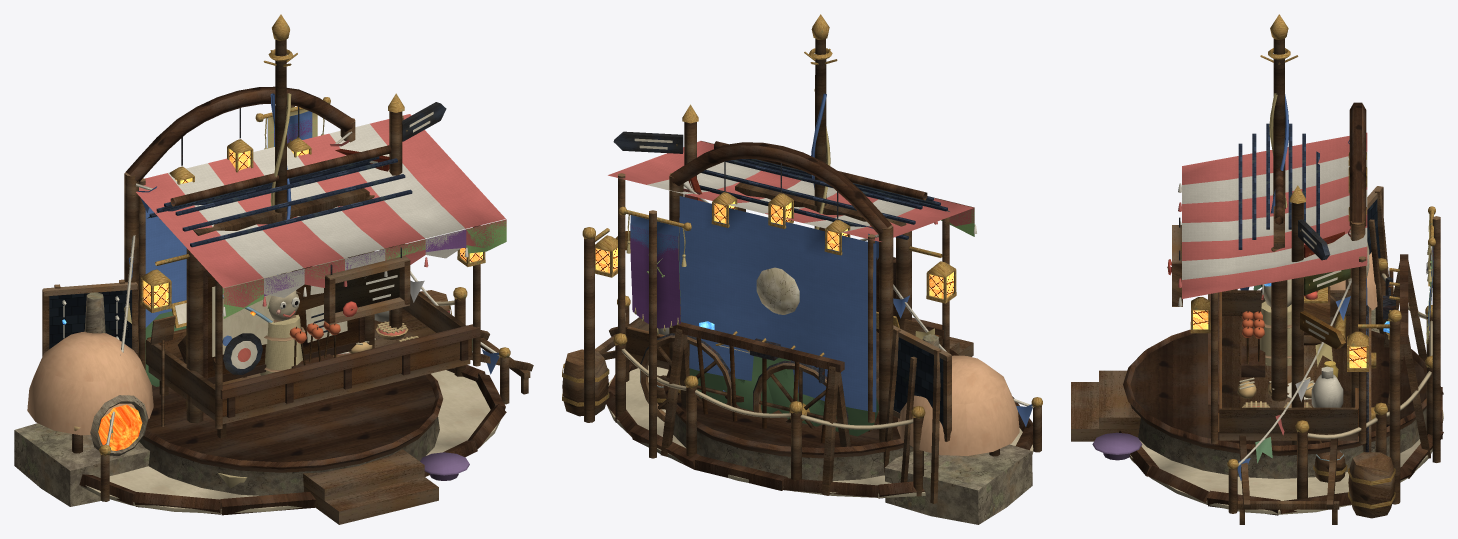
The model's file is square_kit.glb.
The picture shows the model from 3 angles, left to right: view 1: azimuth 30°, elevation 25°; view 2: azimuth 150°, elevation 25°; view 3: azimuth 270°, elevation 25°; orthographic projection. The views are drawn at different scales.
Visible parts, largest first — view 1: D_Bakery, D_Stage, D_Board, D_Trainer, D_Dummy, G_Bakery, D_LightPole; view 2: D_Stage, D_Trainer, D_Bakery, D_Board, G_Trainer, D_LightPole, G_Stage; view 3: D_Bakery, D_Stage, D_Trainer, D_Board, D_LightPole, D_Dummy.
Boxes of the visible parts, bbox=[...] form: D_Bakery: bbox=[14, 114, 533, 506]; D_Stage: bbox=[99, 86, 510, 524]; D_Board: bbox=[140, 93, 446, 423]; D_Trainer: bbox=[42, 97, 506, 515]; D_Dummy: bbox=[223, 290, 305, 375]; G_Bakery: bbox=[223, 220, 506, 318]; D_LightPole: bbox=[263, 14, 297, 274]; D_Stage: bbox=[663, 142, 1042, 480]; D_Trainer: bbox=[582, 206, 1033, 503]; D_Bakery: bbox=[562, 141, 1032, 524]; D_Board: bbox=[613, 104, 956, 332]; G_Trainer: bbox=[630, 225, 680, 328]; D_LightPole: bbox=[804, 14, 837, 231]; G_Stage: bbox=[756, 267, 799, 314]; D_Bakery: bbox=[1167, 132, 1395, 524]; D_Stage: bbox=[1071, 102, 1426, 513]; D_Trainer: bbox=[1119, 186, 1443, 515]; D_Board: bbox=[1238, 123, 1350, 444]; D_LightPole: bbox=[1260, 14, 1298, 213]; D_Dummy: bbox=[1260, 279, 1291, 365].
Bounding box in the file's own units: 5.48 × 5.1 × 4.03.
14 materials, 14 textured.
